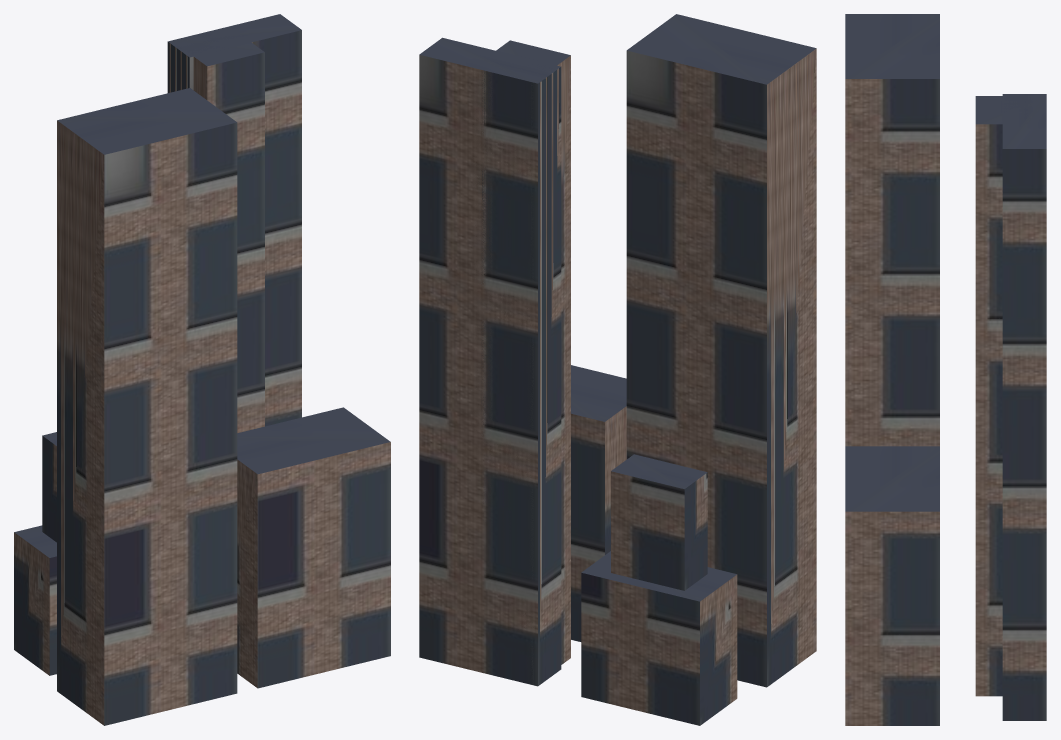
The model's file is block_18.obj.
3 views of the same model, side by side, from view 1: azimuth 30°, elevation 25°; view 2: azimuth 150°, elevation 25°; view 3: azimuth 270°, elevation 25° (orthographic). The views are drawn at different scales.
Parts seen in each view (by area): view 1: b1, b3, b2, b0; view 2: b1, b2, b0, b3; view 3: b2, b1, b3.
Boxes of the visible parts, x1,y1,x2,y2 form: b1: [57, 88, 237, 725]; b3: [237, 407, 390, 688]; b2: [167, 14, 301, 432]; b0: [14, 432, 56, 675]; b1: [626, 14, 816, 687]; b2: [419, 37, 570, 686]; b0: [581, 454, 737, 725]; b3: [571, 365, 626, 641]; b2: [975, 94, 1046, 720]; b1: [845, 14, 939, 446]; b3: [845, 446, 939, 725].
Bounding box in the file's own units: 4.2 × 8 × 2.55.
